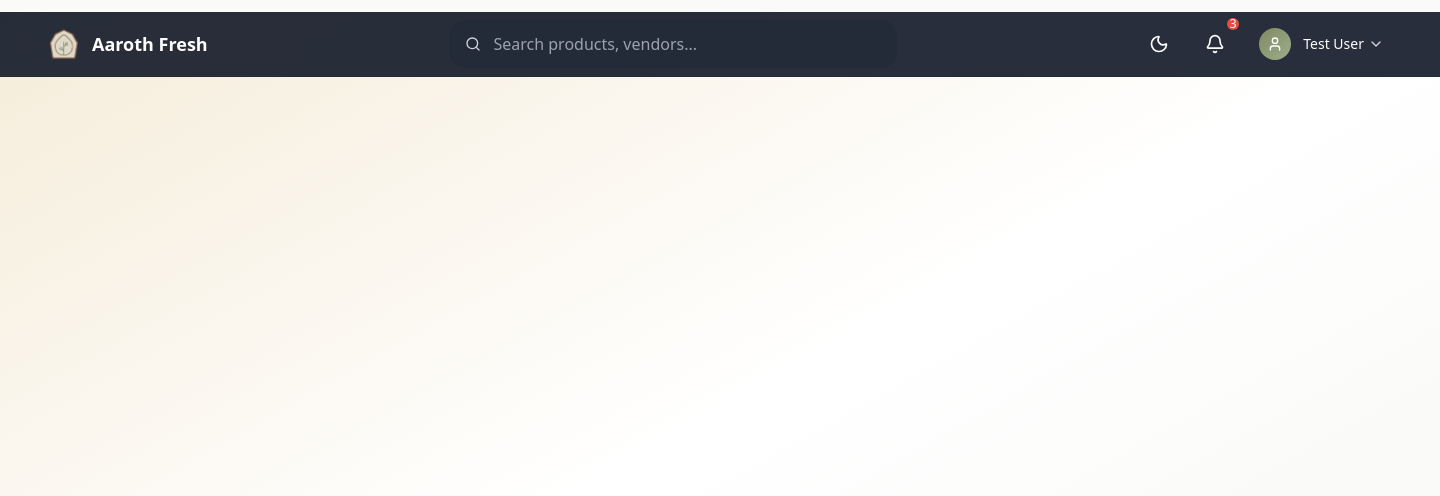
Test: Header › opens and closes notifications
The width and height of the screenshot is (1440, 496).
Expected: the text "Notifications" is not shown
// Open notifications
Click the button named "Notifications": (1215, 44) 1195,22 -> 1235,66
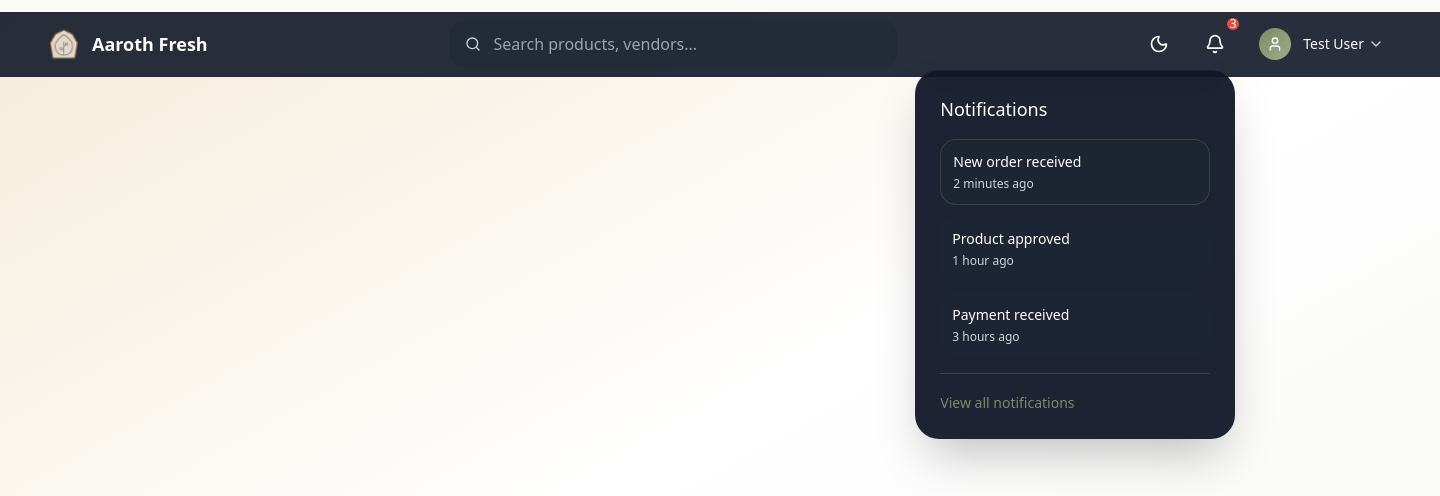
Result: the heading "Notifications" is shown at 940,97 -> 1047,121
